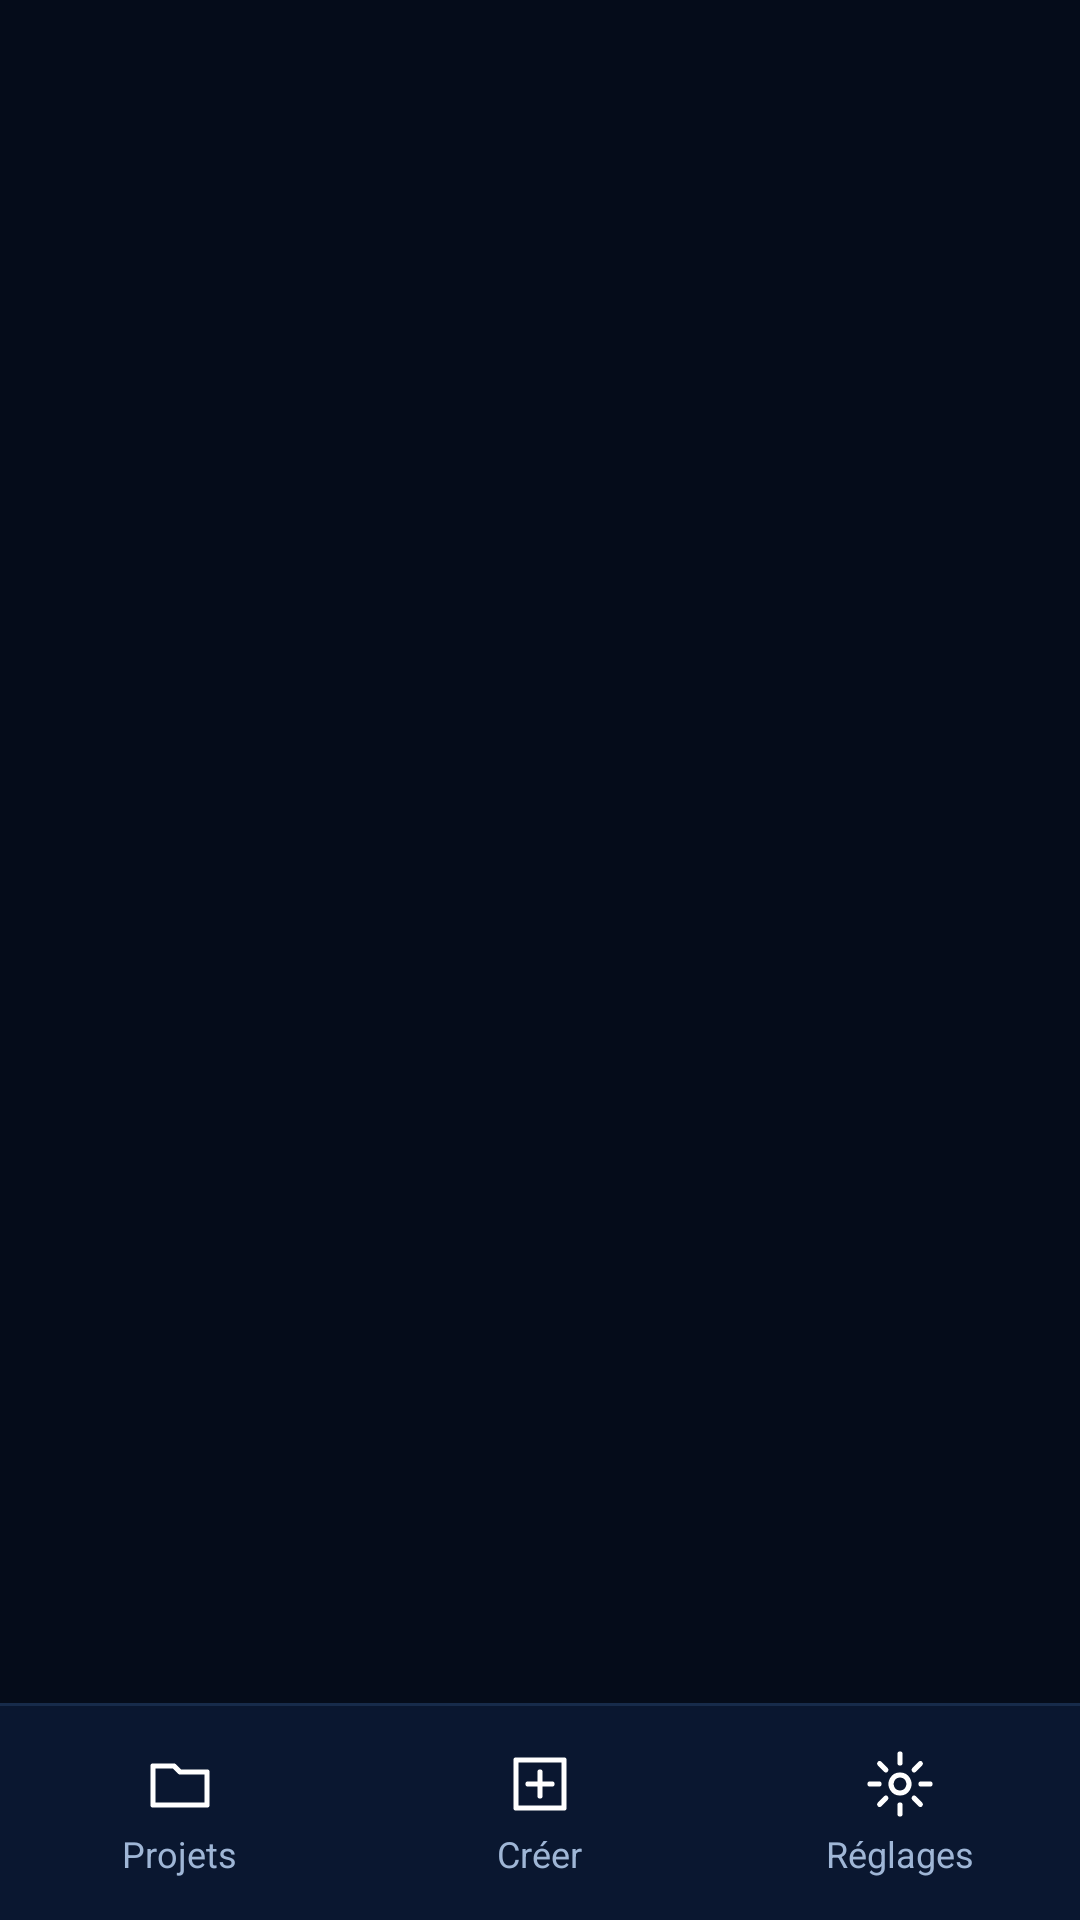

Icons on this 1080 × 1920 Android screen, each with its box as (x1, y1, x2, y2):
folder: (150, 1763, 210, 1808)
plus box: (513, 1757, 567, 1811)
